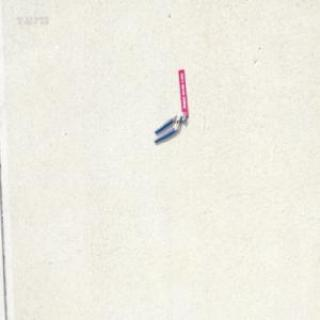LuggageTagtrack_idkeyframe: (176, 67, 188, 116)
Pliertrack_idkeyframe: (152, 110, 185, 143)
